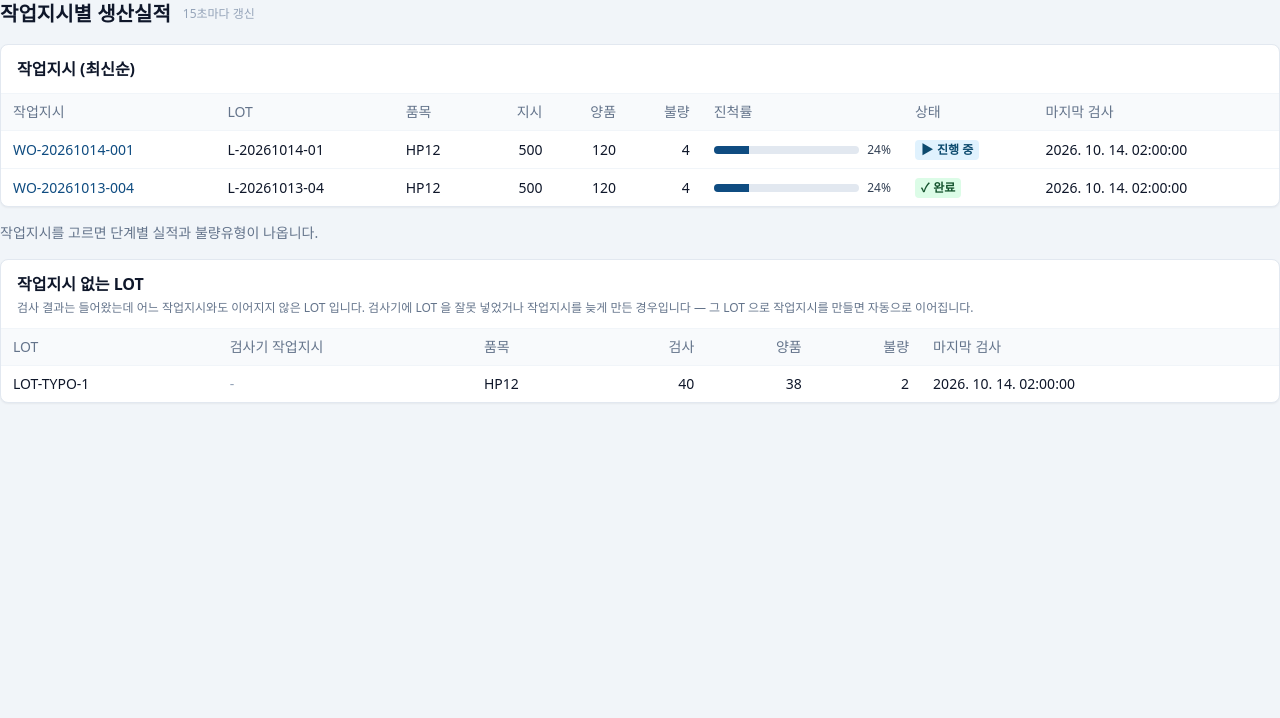
Test case: MesProductionPage › 작업지시를 고르면 단계표·양품 출처·불량유형이 나온다
Click the button with test id "prod-select-1" at (73, 150), box x1=13 y1=140 x2=134 y2=160
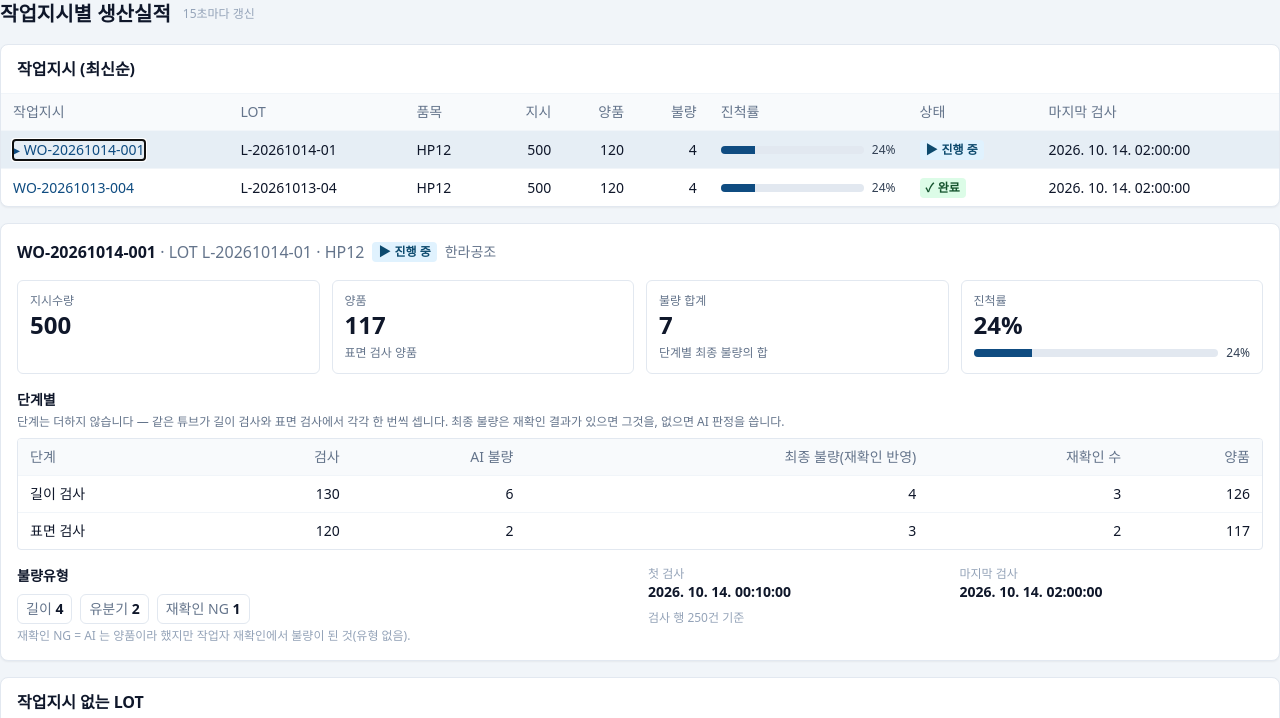
Check: the text "길이 검사" is shown, box x1=18 y1=476 x2=223 y2=512
Check: the cells read "길이 검사", "130", "6", "4", "3", "126", in this order, box x1=18 y1=476 x2=223 y2=512; x1=223 y1=476 x2=352 y2=512; x1=352 y1=476 x2=526 y2=512; x1=525 y1=476 x2=928 y2=512; x1=928 y1=476 x2=1133 y2=512; x1=1133 y1=476 x2=1262 y2=512
Check: the row with test id "stage-POST_WASH_SURFACE" is shown, box x1=18 y1=512 x2=1262 y2=549
